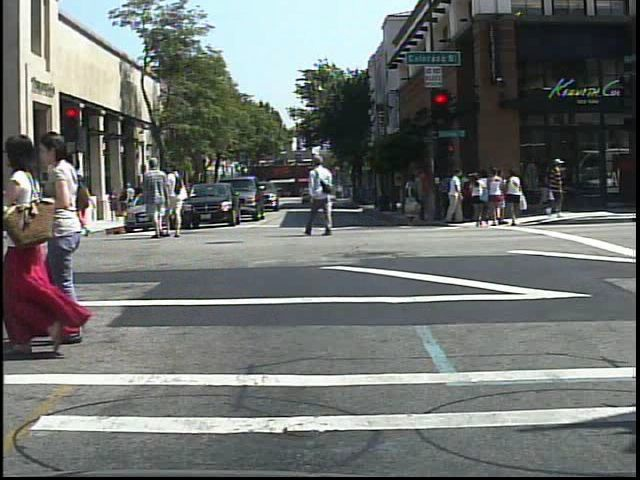person: (0, 129, 84, 364), (40, 121, 121, 349), (306, 152, 341, 242), (143, 155, 176, 242), (540, 154, 572, 219), (69, 168, 97, 242), (38, 167, 64, 244), (169, 160, 190, 240), (469, 171, 489, 231)
